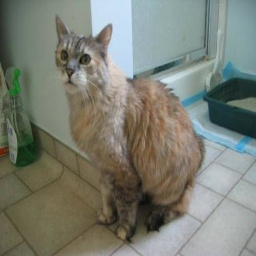cat: (51, 11, 210, 243)
